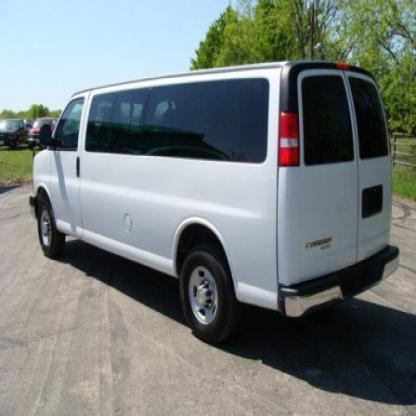Vehicle: (30, 64, 401, 343)
